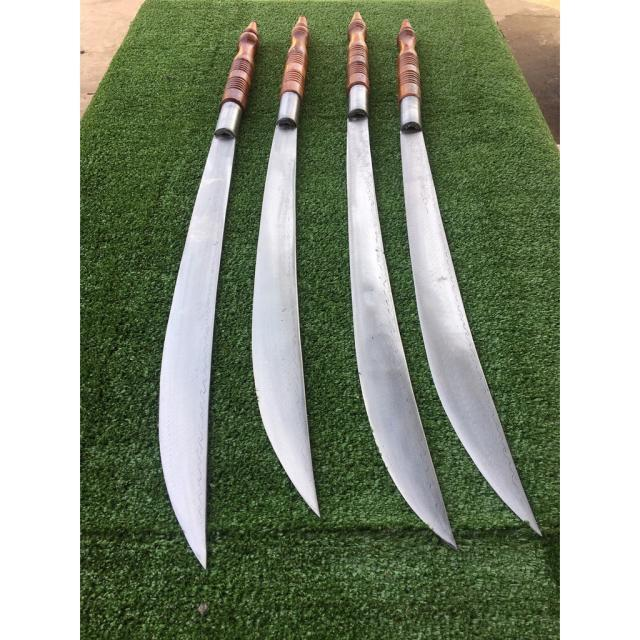long sword: (396, 3, 542, 540), (155, 17, 263, 572), (359, 10, 460, 546), (249, 16, 325, 524)
